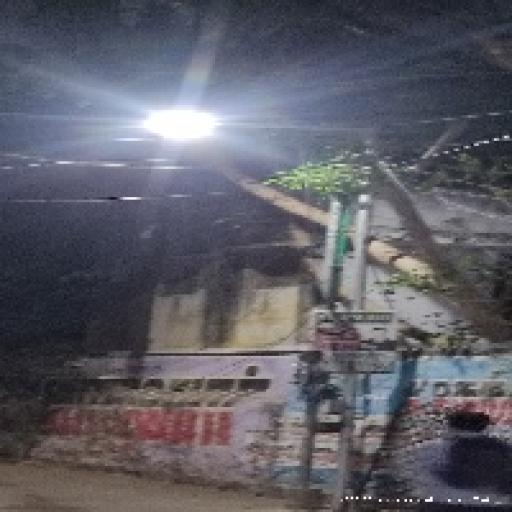Working: (124, 98, 242, 163)
